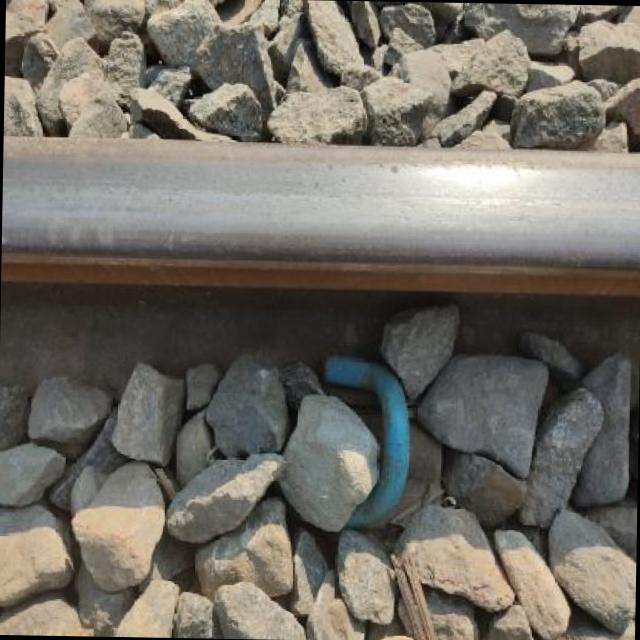non-defective: (0, 98, 640, 391)
